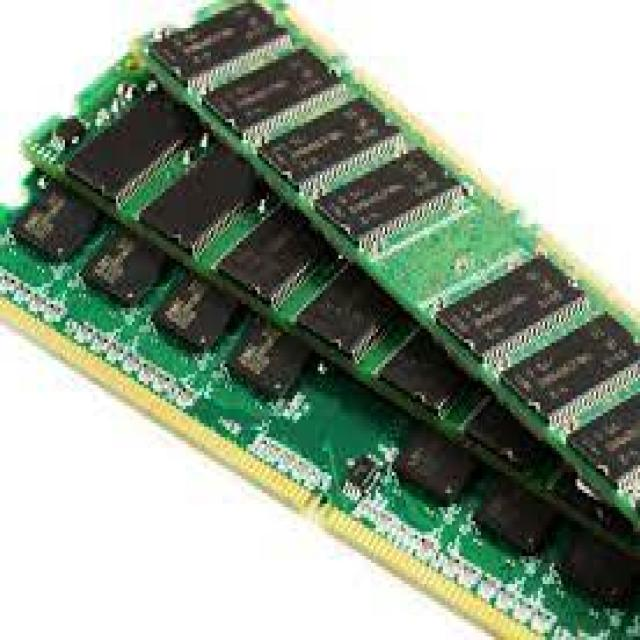Ram: (56, 4, 566, 568)
